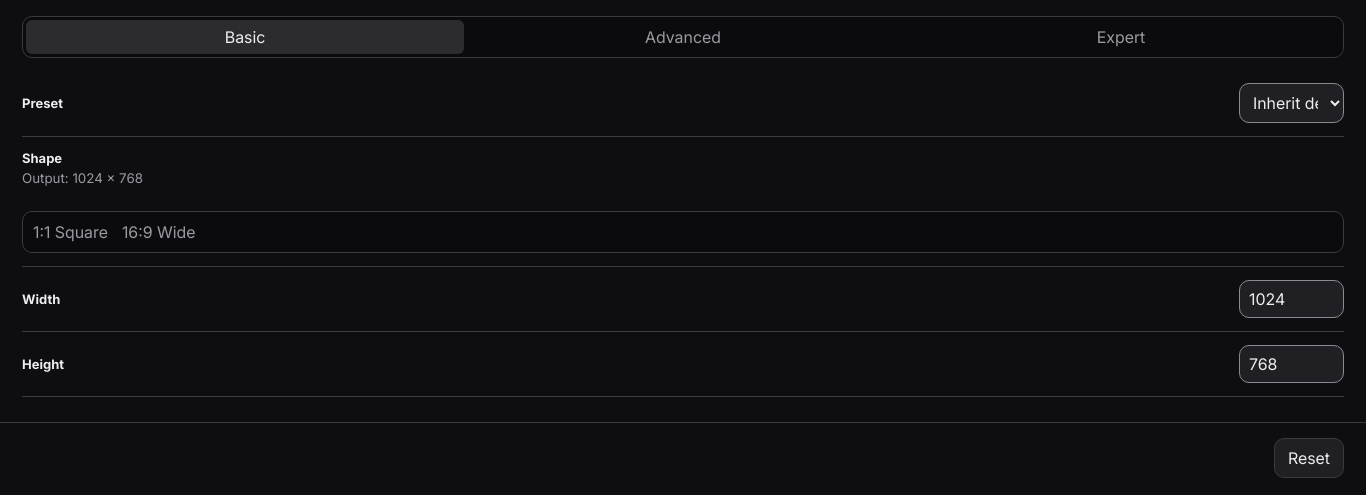
Test: the shape control in the panel › stores the pixels the server resolved for the ratio that was chosen
This screenshot has width=1366, height=495.
Expected: the text "Output: 1024 × 768" is shown, [22,170,143,186]
Note: The workflow's own defaults before anything is chosen.
Click the button "16:9 Wide" at (159, 232), box [115,215,202,249]
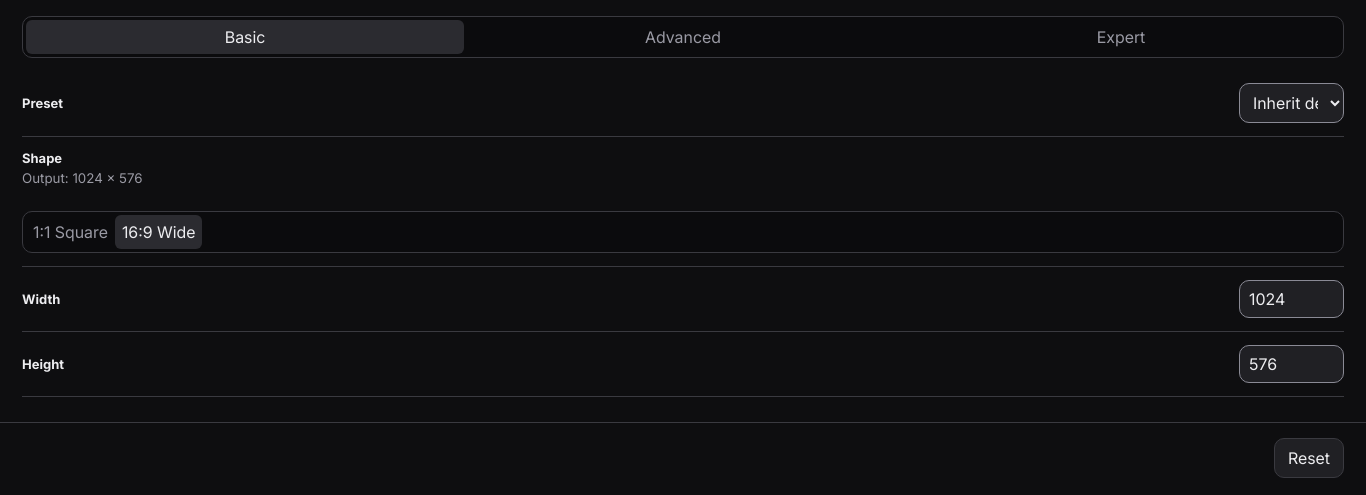
Expected: the number field labelled "Width" holds "1024", [1239,280,1344,318]
Expected: the number field labelled "Height" holds "576", [1239,345,1344,383]
Expected: the text "Output: 1024 × 576" is shown, [22,170,143,186]
